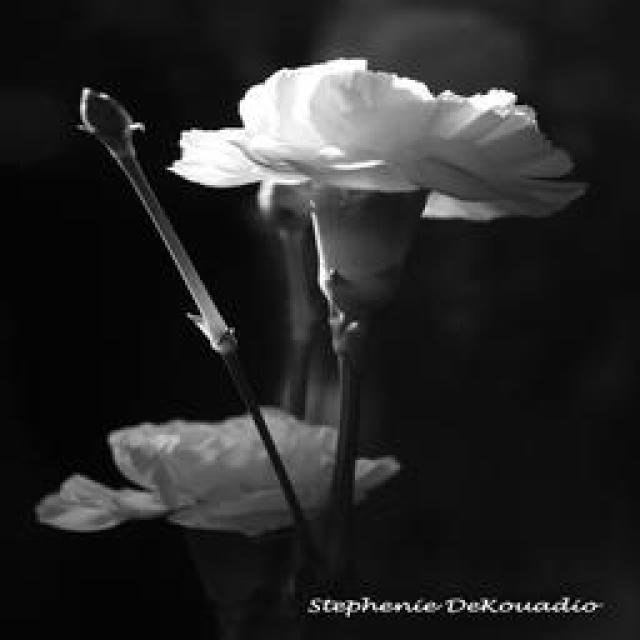carnation: (167, 52, 572, 301)
